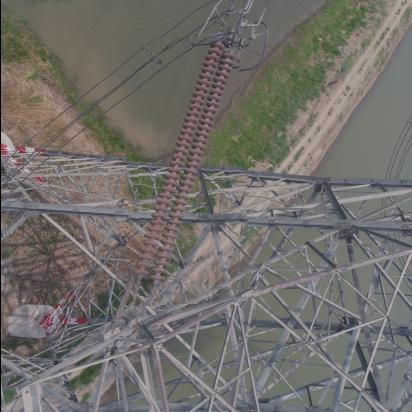insulator: (123, 37, 248, 307)
